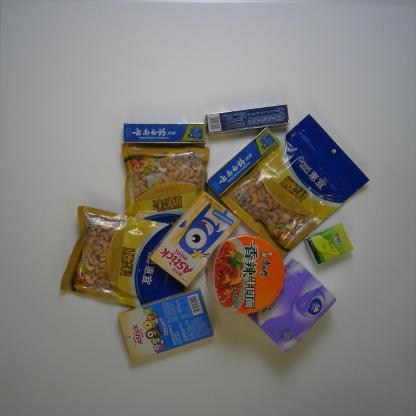Dessert: (148, 188, 244, 290), (116, 286, 214, 362)
Dried Fruit: (221, 110, 372, 258), (56, 203, 190, 308), (119, 140, 210, 230)
Instant Noodles: (204, 233, 285, 316)
Personal Hygiene: (200, 124, 283, 202), (204, 101, 293, 135), (121, 120, 210, 148)
Tissue: (246, 257, 337, 355), (302, 222, 356, 266)
